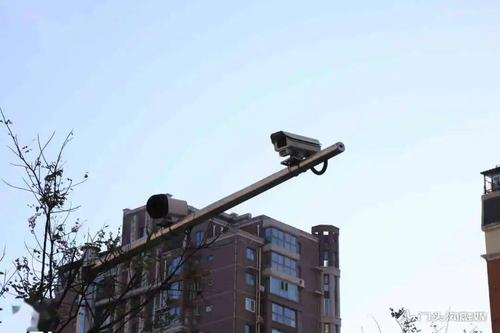camera: (266, 130, 326, 166), (143, 192, 189, 226)
